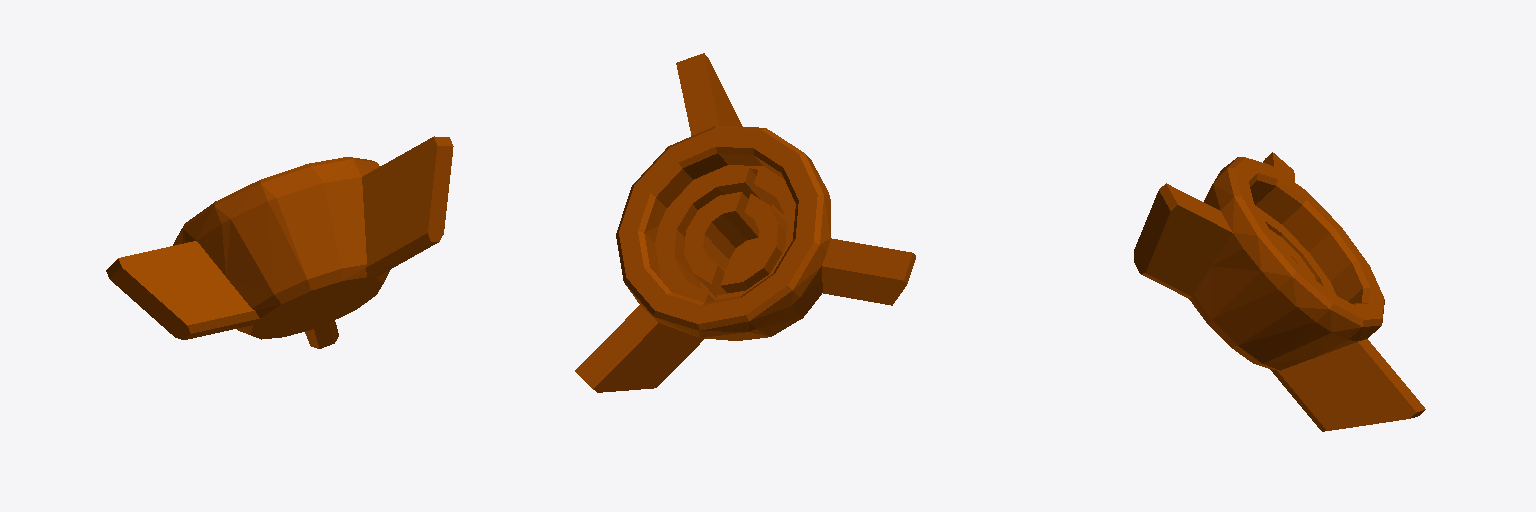
Rendered from Mini_Knob.obj.
The picture shows the model from 3 angles: view 1: azimuth 30°, elevation 25°; view 2: azimuth 150°, elevation 25°; view 3: azimuth 270°, elevation 25°; orthographic projection.
Visible parts, largest first — view 1: Prusa_Mini; view 2: Prusa_Mini; view 3: Prusa_Mini.
Part boxes in pixels (x1,y1,x2,y2): Prusa_Mini: (106, 136, 453, 348); Prusa_Mini: (575, 53, 915, 392); Prusa_Mini: (1134, 152, 1425, 431).
Bounding box in the file's own units: 32.35 × 28.49 × 28.69.